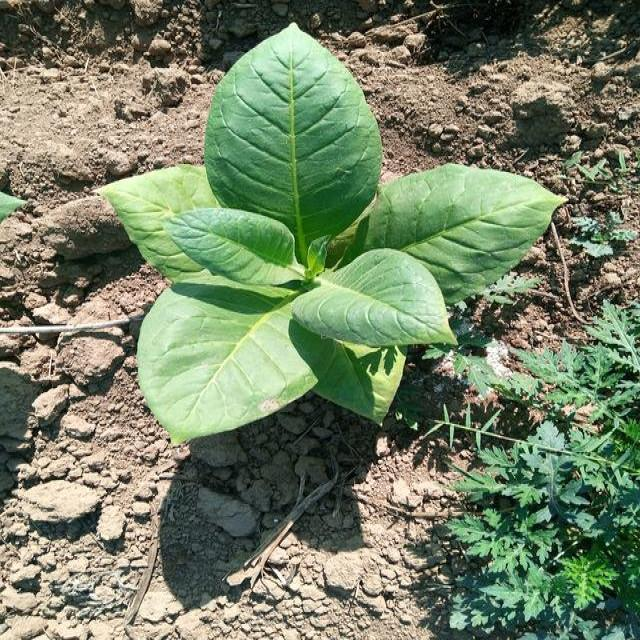crop: (99, 17, 570, 450)
